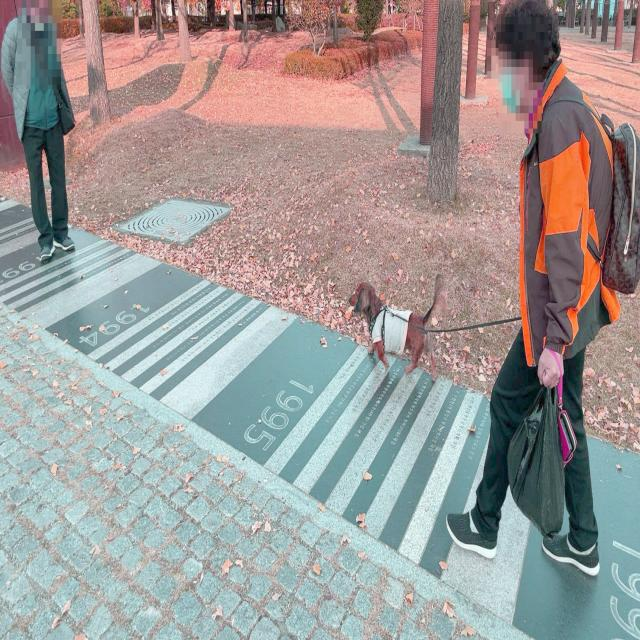Leashed_Dog: (348, 256, 572, 386)
